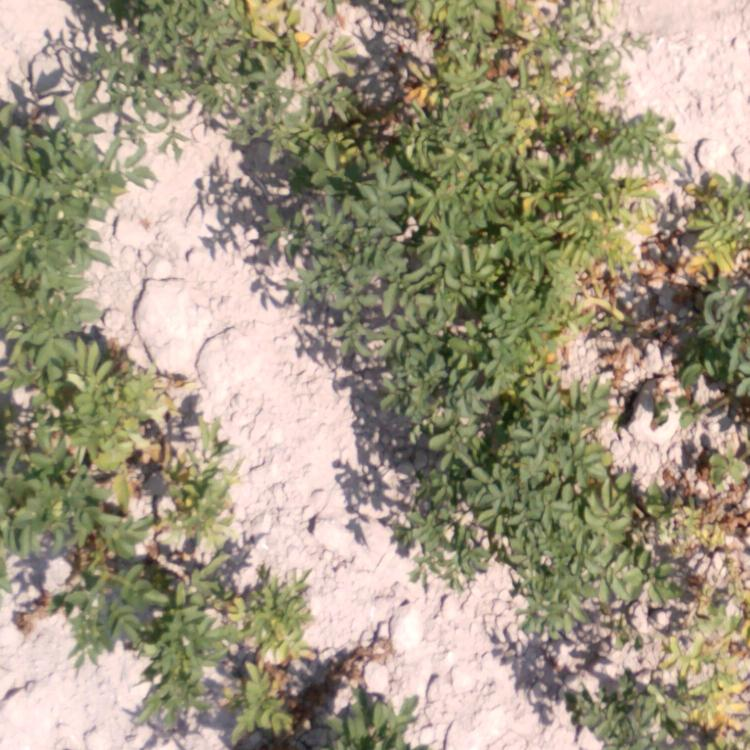healthy: (313, 173, 513, 409), (412, 414, 627, 623), (1, 106, 91, 328), (216, 105, 308, 258), (94, 100, 172, 205), (126, 681, 201, 750)
stressed: (1, 334, 227, 544), (206, 546, 395, 750), (516, 96, 674, 307), (306, 3, 618, 88), (76, 1, 310, 103), (555, 639, 750, 749), (55, 558, 201, 674), (655, 455, 750, 630), (312, 91, 521, 165), (670, 196, 750, 381), (524, 299, 638, 407)
